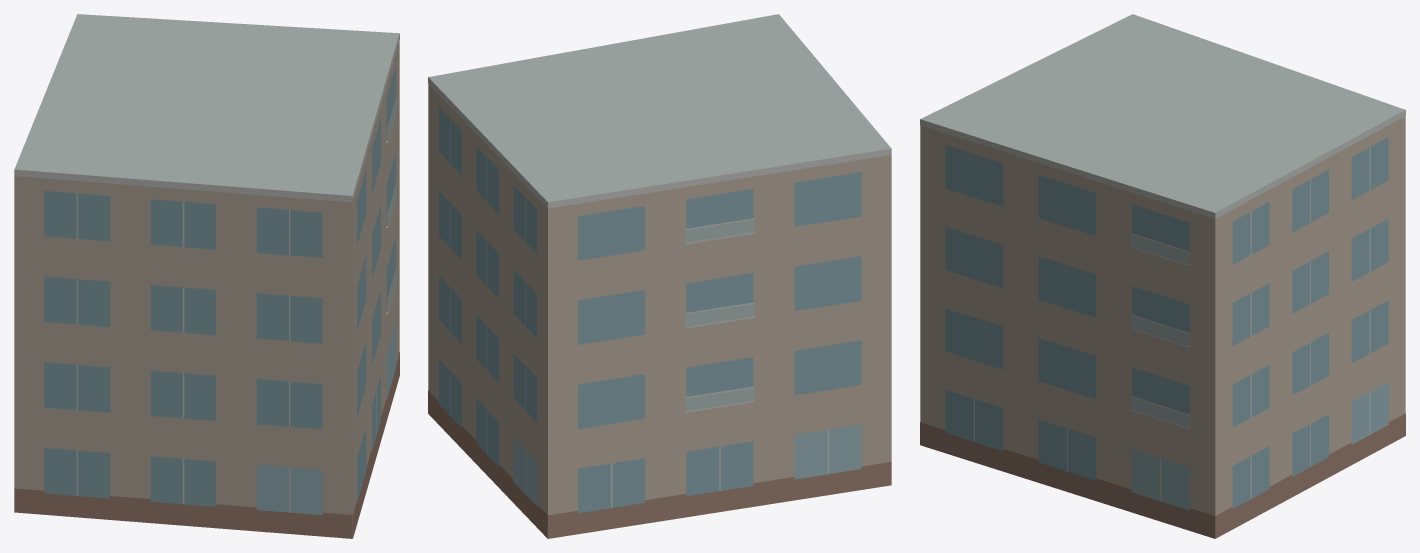
Rendered from survey-upis-32742528.glb.
3 renders of one model, left to right at view 1: azimuth 30°, elevation 25°; view 2: azimuth 150°, elevation 25°; view 3: azimuth 270°, elevation 25°, orthographic. The views are drawn at different scales.
Visible parts, largest first — view 1: survey-upis-32742528.tmp; view 2: survey-upis-32742528.tmp; view 3: survey-upis-32742528.tmp.
Part boxes in pixels (box(x1,y1,x2,y2)): survey-upis-32742528.tmp: box(14, 14, 399, 538); survey-upis-32742528.tmp: box(428, 14, 891, 538); survey-upis-32742528.tmp: box(920, 14, 1405, 538).
Bounding box in the file's own units: 16.98 × 12.97 × 17.52.
